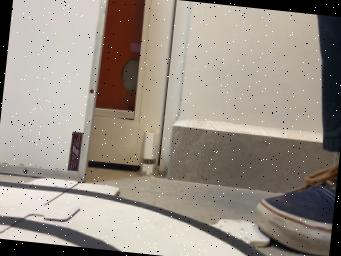street: (0, 182, 267, 256), (0, 182, 267, 256), (0, 182, 267, 256), (136, 219, 137, 220), (136, 219, 137, 220), (136, 219, 137, 220)
